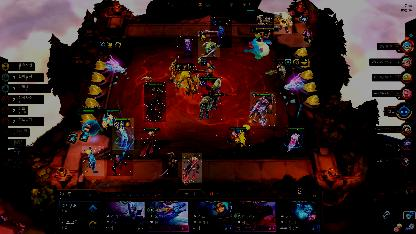1_bard: (257, 26, 273, 42)
1_idas: (170, 62, 200, 94)
1_jayce: (200, 58, 222, 82)
1_leesin: (107, 154, 133, 176)
1_rakan: (182, 153, 202, 183), (141, 128, 161, 156)
1_twitch: (162, 154, 178, 178), (256, 14, 272, 30)
1_volibear: (274, 12, 292, 34)
1_xayah: (286, 126, 306, 152)
1_yasuo: (177, 36, 195, 58)
2_ezreal: (112, 118, 134, 150), (82, 146, 104, 176)
2_jax: (198, 31, 220, 57)
2_lillia: (144, 82, 166, 122)
2_nasus: (268, 58, 288, 84)
2_rell: (200, 76, 222, 120)
2_sejuani: (250, 92, 276, 126)
2_yone: (210, 16, 232, 48)
3_bard: (227, 126, 251, 148)
